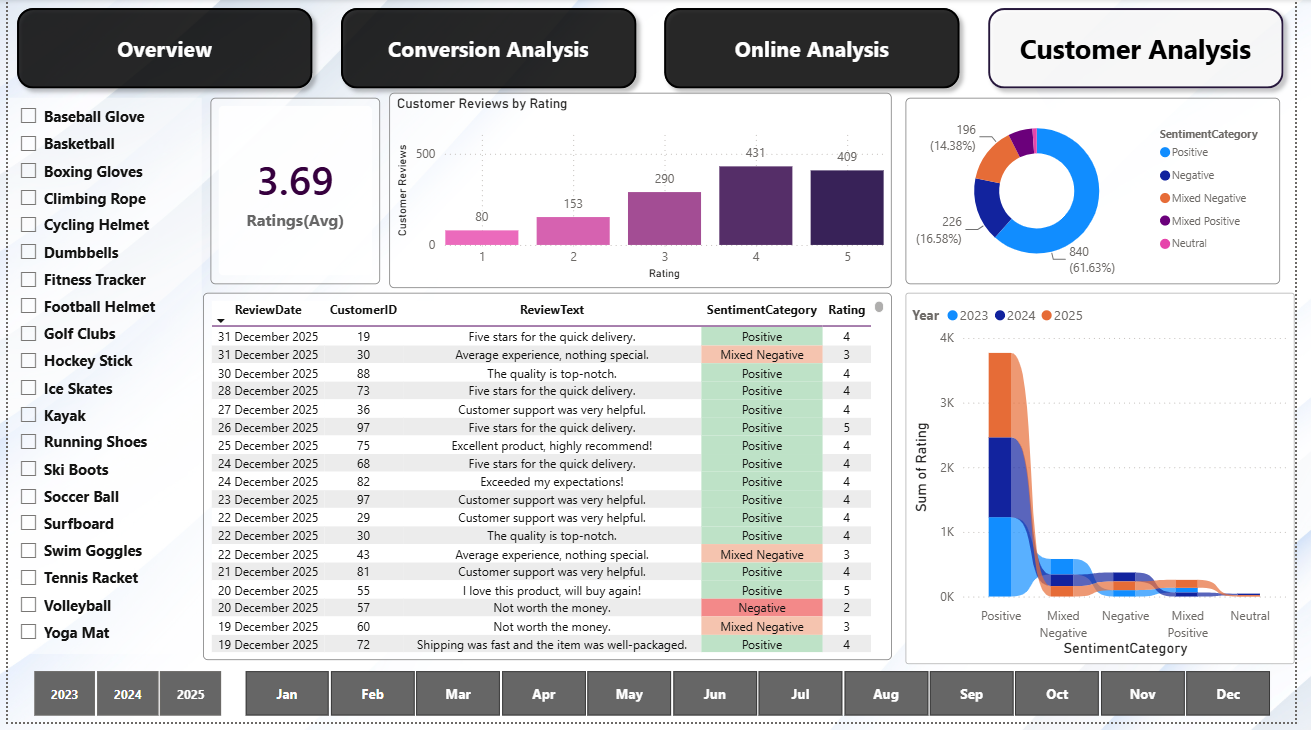

The dashboard page shown, as its layout file describes it:
{"tool":"powerbi","page":{"name":"Customer Analysis","canvas":[1280,720],"ordinal":3},"visuals":[{"type":"pageNavigator","box":[0,0,1280,98.3],"z":0},{"type":"slicer","fields":{"Values":["products.ProductName"]},"box":[0,98.3,192.8,553.6],"z":1000},{"type":"slicer","fields":{"Values":["Calendar.Year"]},"box":[0,661.5,236.4,58.5],"z":2000},{"type":"slicer","fields":{"Values":["Calendar.MonthNameShort"]},"box":[210.2,661.5,1069.8,58.5],"z":3000},{"type":"tableEx","fields":{"Values":["customer_reviews_with_sentiment.ReviewDate","customer_reviews_with_sentiment.CustomerID","customer_reviews_with_sentiment.ReviewText","customer_reviews_with_sentiment.SentimentCategory","customer_reviews_with_sentiment.Rating"]},"box":[194.1,292.3,685.4,365.7],"z":4000},{"type":"cardVisual","fields":{"Data":["Calculations.Rating(Average)"]},"box":[201.5,98.3,169.2,185.3],"z":5000},{"type":"columnChart","fields":{"Category":["customer_reviews_with_sentiment.Rating"],"Y":["Calculations.Number of Customer Reviews"]},"box":[379.4,93.3,500.1,194.1],"z":6000},{"type":"donutChart","fields":{"Category":["customer_reviews_with_sentiment.SentimentCategory"],"Y":["Calculations.Number of Customer Reviews"]},"box":[893.2,98.3,373.2,185.3],"z":7000},{"type":"ribbonChart","fields":{"Y":["Sum(customer_reviews_with_sentiment.Rating)"],"Category":["customer_reviews_with_sentiment.SentimentCategory"],"Series":["Calendar.Year"]},"box":[893.2,292.3,386.9,369.5],"z":8000}]}

Visuals, with their boxes in screenshot pixels (x1, y1, x2, y2), scaled from the page's 1280x720 canvas onto the 1311x730 screenshot:
pageNavigator: crop(0, 0, 1310, 100)
slicer - products.ProductName: crop(0, 100, 197, 661)
slicer - Calendar.Year: crop(0, 671, 242, 729)
slicer - Calendar.MonthNameShort: crop(215, 671, 1310, 729)
tableEx - customer_reviews_with_sentiment.ReviewDate x customer_reviews_with_sentiment.CustomerID: crop(199, 296, 901, 667)
cardVisual - Calculations.Rating(Average): crop(206, 100, 380, 288)
columnChart - customer_reviews_with_sentiment.Rating x Calculations.Number of Customer Reviews: crop(389, 95, 901, 291)
donutChart - customer_reviews_with_sentiment.SentimentCategory x Calculations.Number of Customer Reviews: crop(915, 100, 1297, 288)
ribbonChart - Sum(customer_reviews_with_sentiment.Rating) x customer_reviews_with_sentiment.SentimentCategory: crop(915, 296, 1310, 671)
